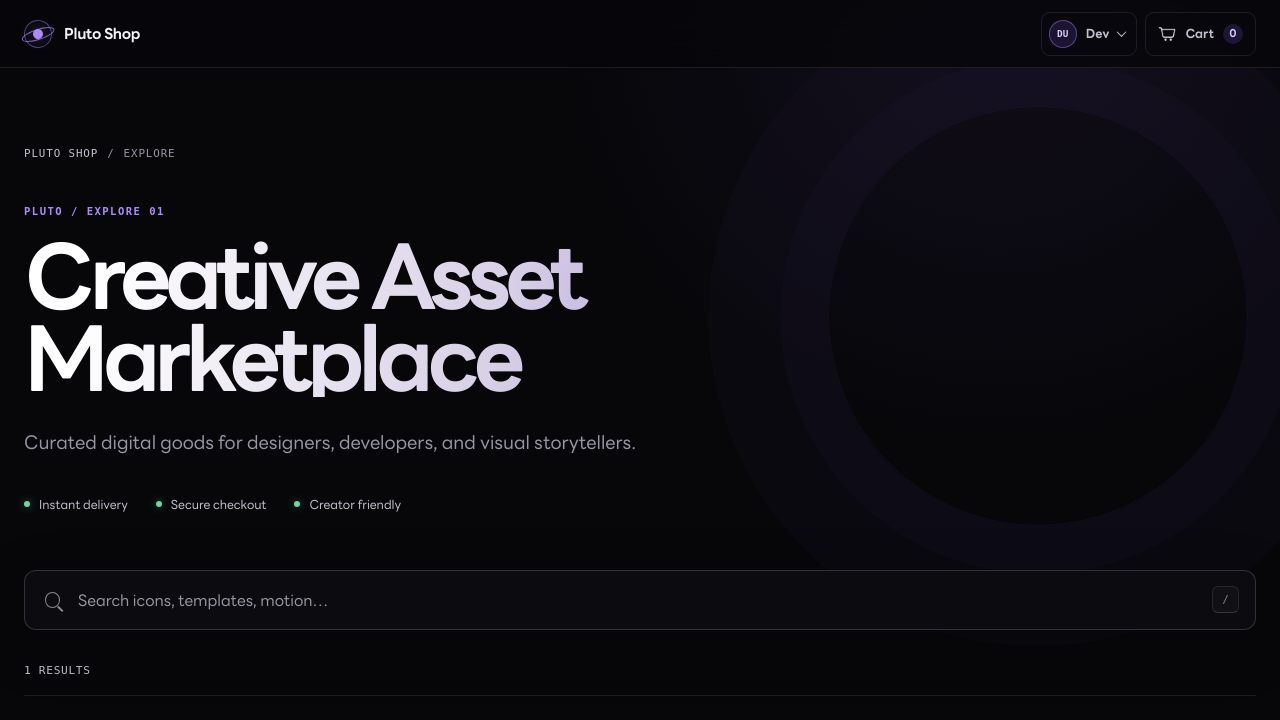
cart and product details › groups authenticated account actions in an accessible dropdown
Expected: the text "Dev" is shown, 1086,24 -> 1109,43
Expected: the text "Dev User" is not shown
Click the button with aria-label "Account menu for Dev User". click: x=1089, y=34
box: 1041,12 -> 1137,56
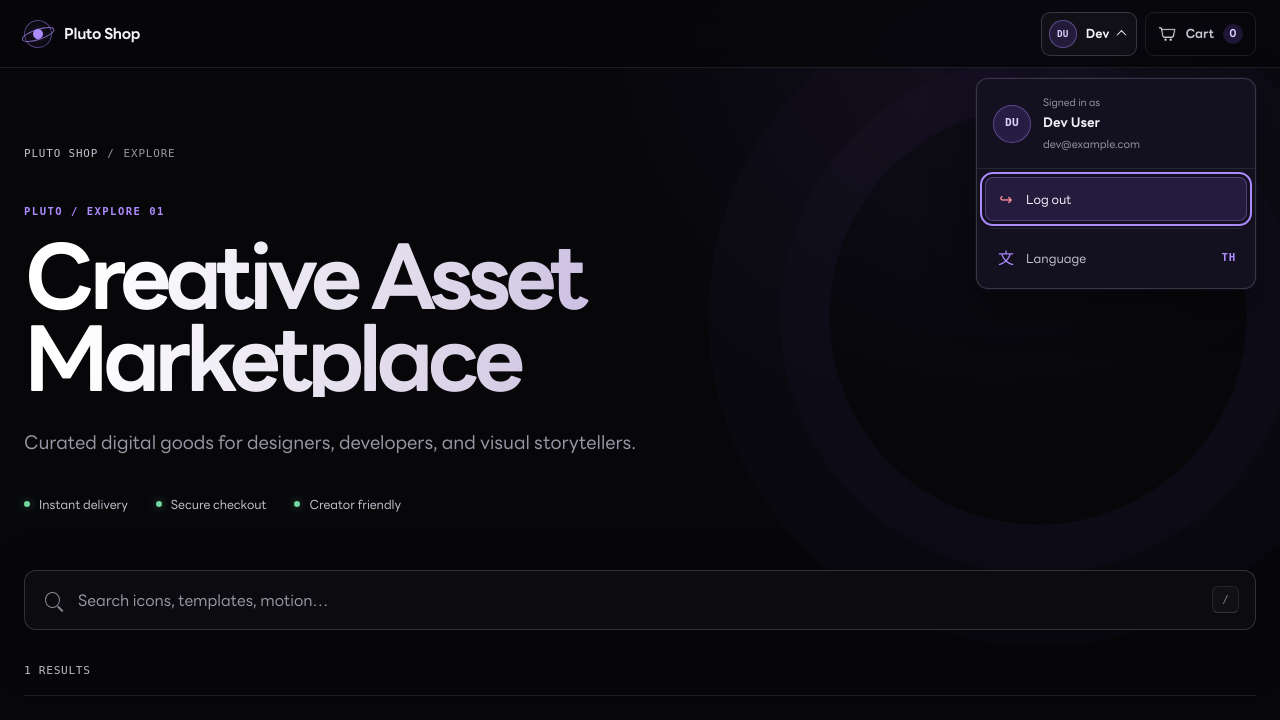
Now the menu named "Account menu" is shown, box 977,169 -> 1255,288
Now the text "Dev User" is shown, box 1043,113 -> 1100,131
Press Escape
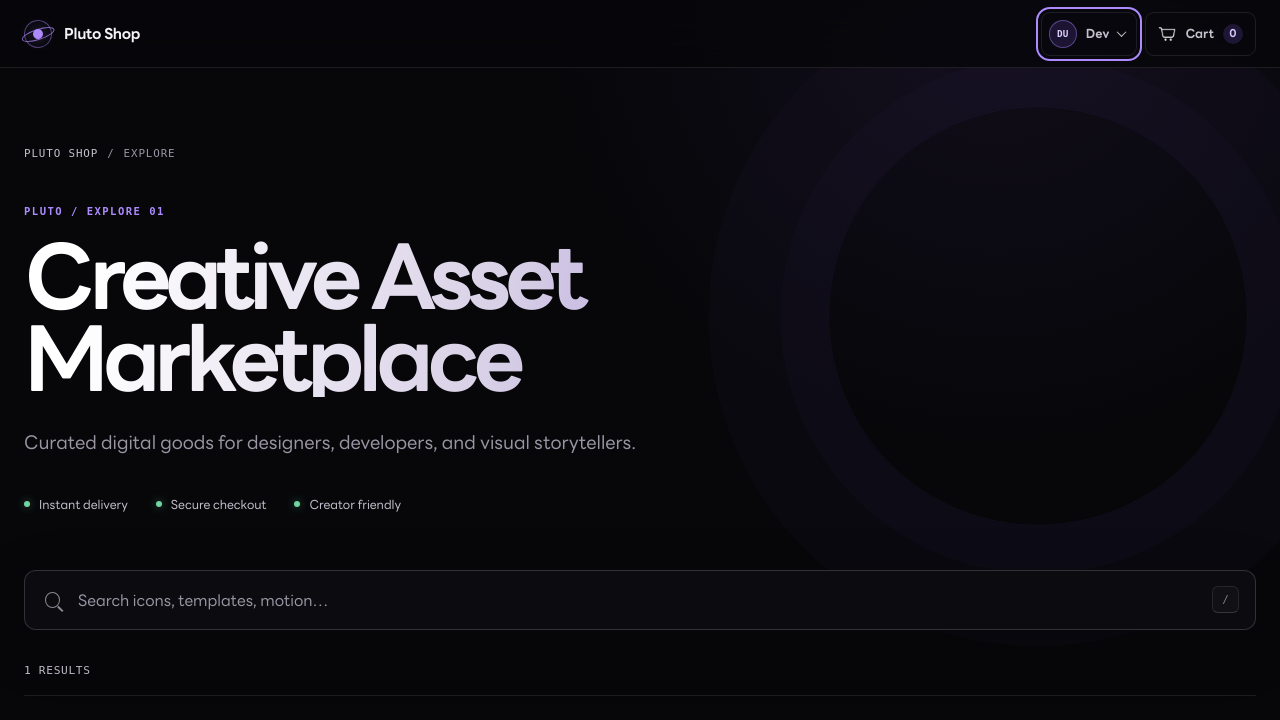
Now the menu is gone
